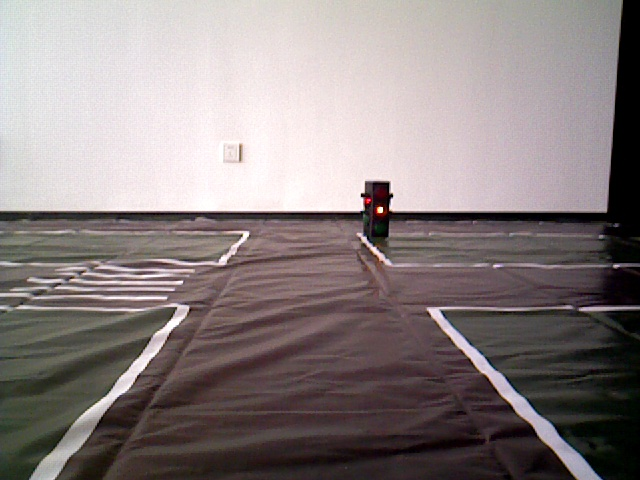yellow: (362, 179, 393, 238)
